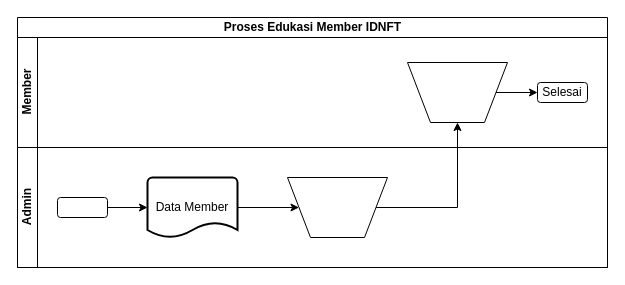
This 625x285 diagram has some shape labels left out. Here are the shapes that lost their labels. From the top down, the centre of each, then its label:
At point (457, 92): "Menghadiri kelas edukasi seni secara offline".
At point (82, 207): "Mulai".
At point (337, 207): "Mengirimkan informasi kelas edukasi seni.".
